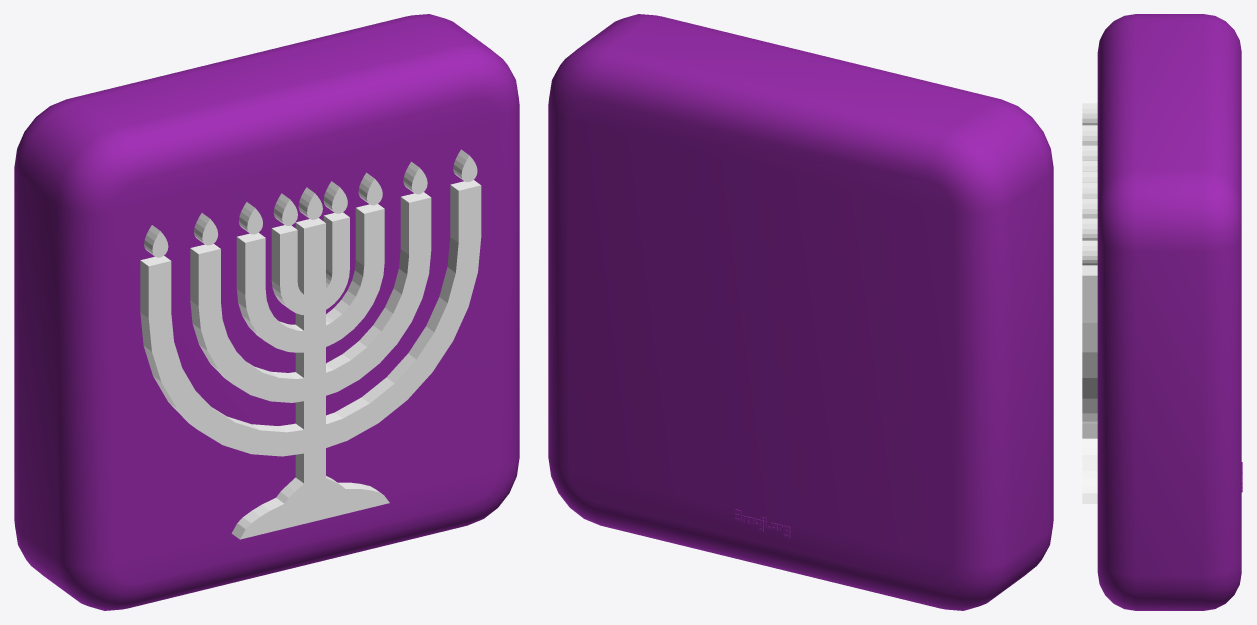
File: menorah.fbx
3 views of the same model, side by side, from view 1: azimuth 30°, elevation 25°; view 2: azimuth 150°, elevation 25°; view 3: azimuth 270°, elevation 25° (orthographic). The views are drawn at different scales.
Parts seen in each view (by area): view 1: Cube.6396; view 2: Cube.6396; view 3: Cube.6396.
Part boxes in pixels (box(x1,y1,x2,y2)): Cube.6396: box(14, 14, 519, 610); Cube.6396: box(548, 14, 1053, 610); Cube.6396: box(1082, 14, 1242, 610).
Bounding box in the file's own units: 220 × 220 × 73.37.
Materials: 1 (1 with a texture image).
